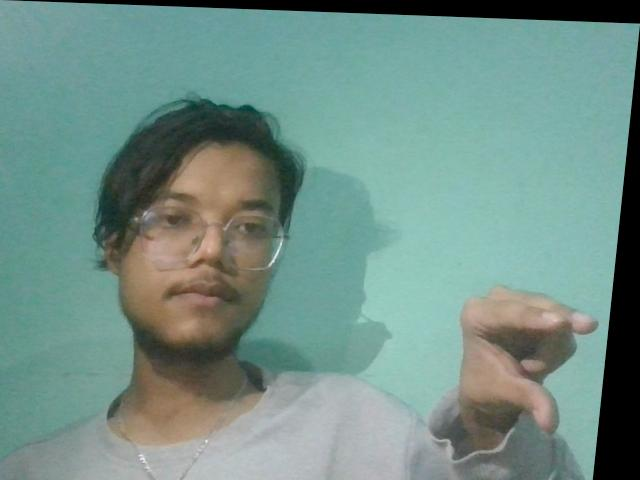No: (431, 260, 619, 443)
